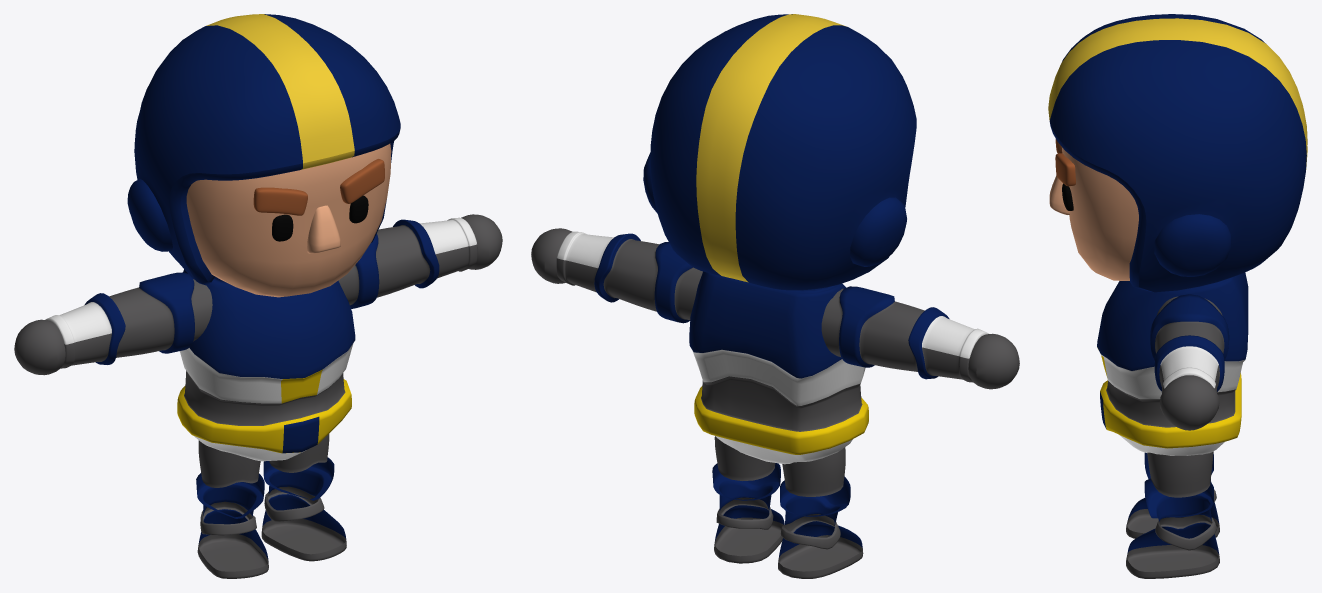
The model's file is 01_XANH NAVY.fbx.
3 renders of one model, left to right at view 1: azimuth 30°, elevation 25°; view 2: azimuth 150°, elevation 25°; view 3: azimuth 270°, elevation 25°, orthographic.
Visible parts, largest first — view 1: THAN, MU, DAU; view 2: THAN, MU; view 3: MU, THAN, DAU.
Boxes of the visible parts, <box> form: THAN: <box>14,214,502,578</box>; MU: <box>127,14,400,285</box>; DAU: <box>186,143,391,297</box>; THAN: <box>531,228,1019,578</box>; MU: <box>643,14,916,290</box>; MU: <box>1048,14,1307,292</box>; THAN: <box>1097,272,1248,578</box>; DAU: <box>1049,139,1138,280</box>.
Size of the model in its own units: 185 by 191 by 86.13.
